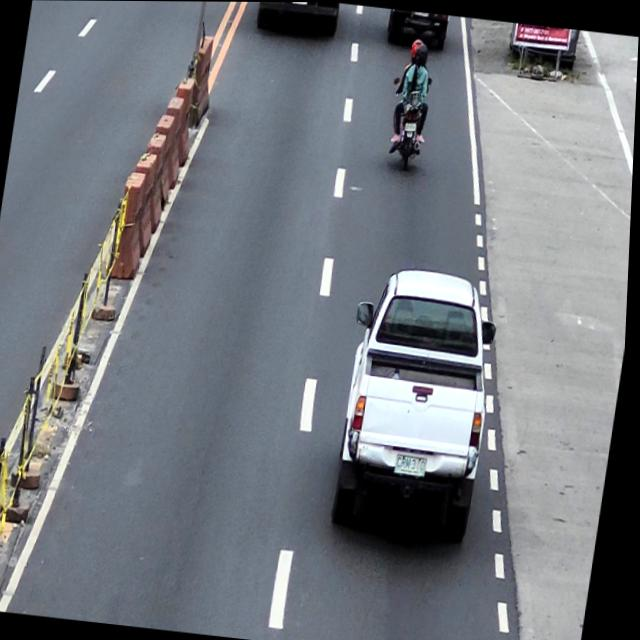Car: (327, 263, 510, 544)
License-Plate: (398, 453, 432, 476), (404, 119, 418, 132)
Motorcycle: (383, 71, 434, 171)
